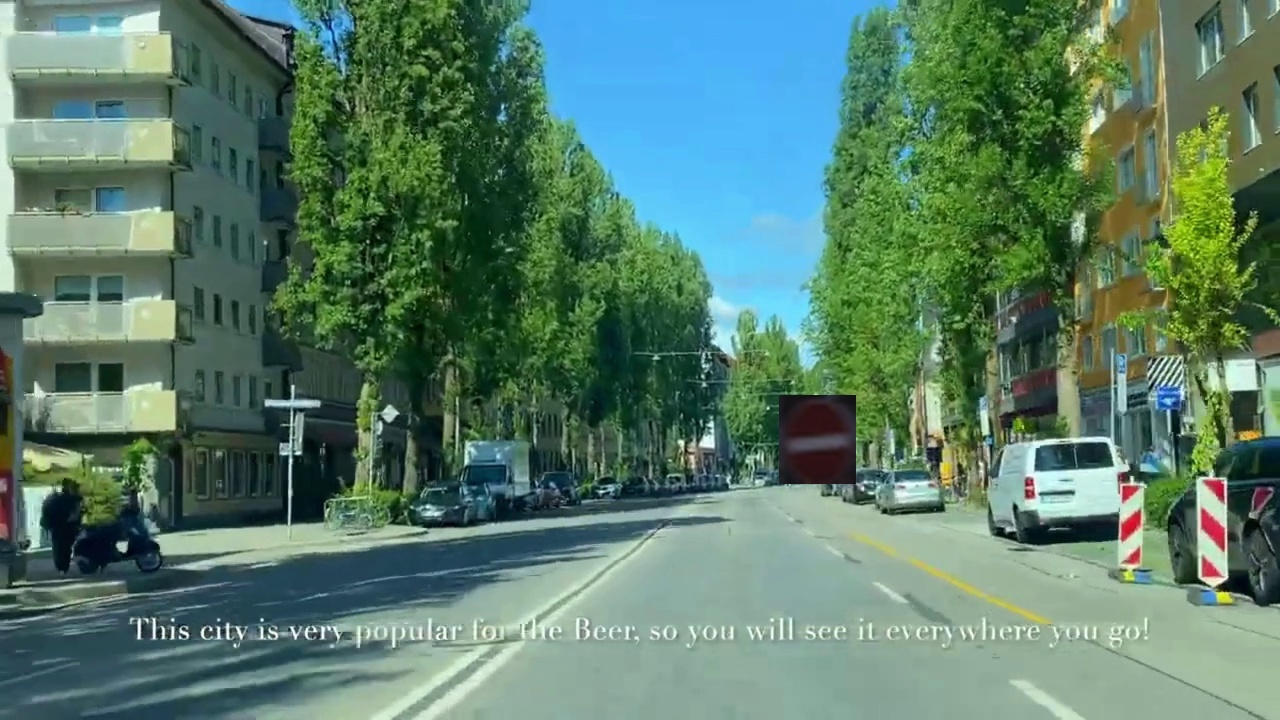No entry: (779, 395, 856, 484)
